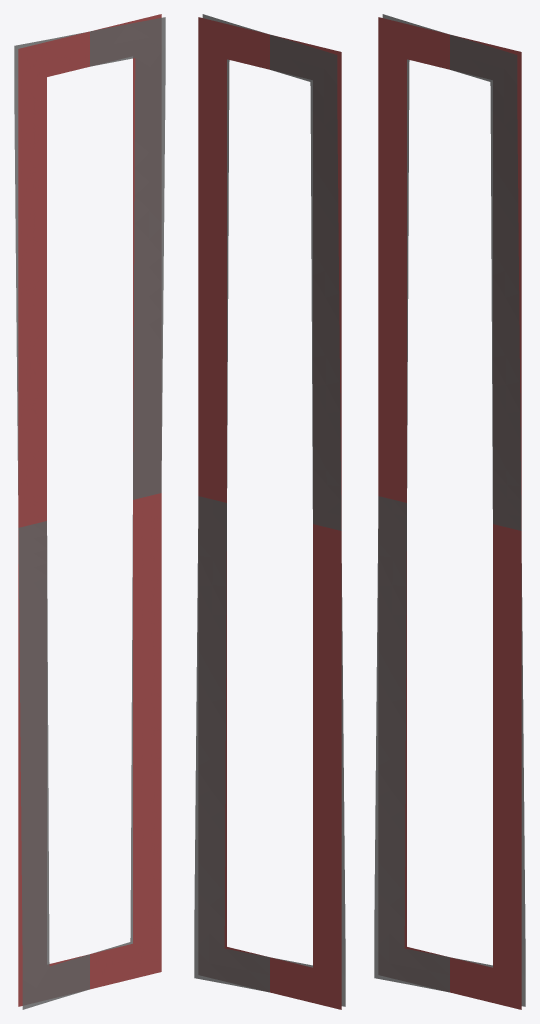
File: warping-box-256-40-9-8-234.glb
3 renders of one model, left to right at view 1: azimuth 30°, elevation 25°; view 2: azimuth 150°, elevation 25°; view 3: azimuth 330°, elevation 25°, orthographic.
Visible parts, largest first — view 1: undeformed cross-section, cross-section with warping; view 2: undeformed cross-section, cross-section with warping; view 3: undeformed cross-section, cross-section with warping.
Boxes of the visible parts, box(x1,y1,x2,y2) form: undeformed cross-section: box(18, 14, 161, 1006); cross-section with warping: box(14, 17, 165, 1009); undeformed cross-section: box(198, 17, 341, 1009); cross-section with warping: box(194, 14, 345, 1006); undeformed cross-section: box(378, 17, 521, 1009); cross-section with warping: box(374, 14, 525, 1006).
Bounding box in the file's own units: 0.04 × 0.256 × 0.00416.
